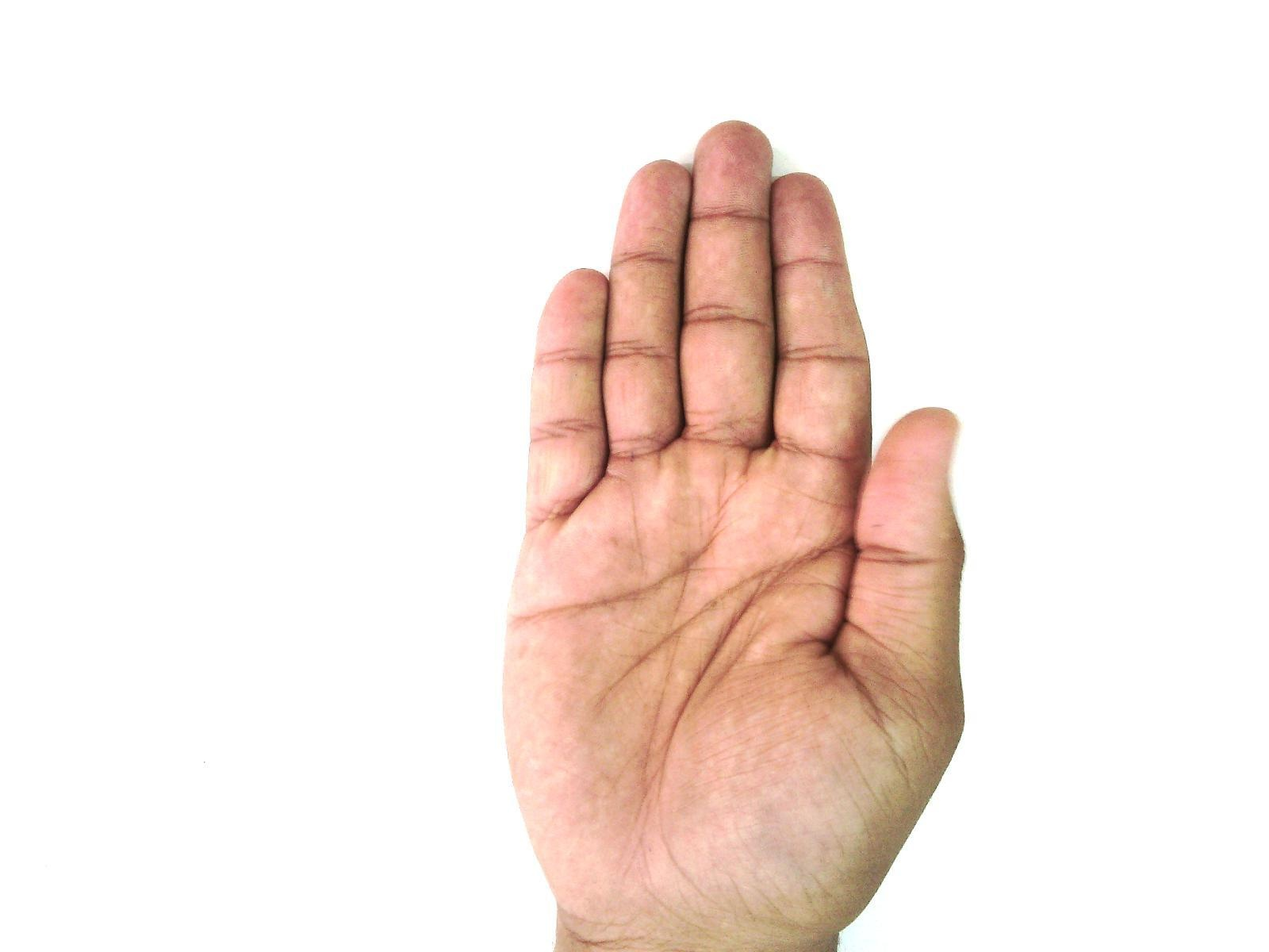open_palm: (499, 119, 970, 950)
